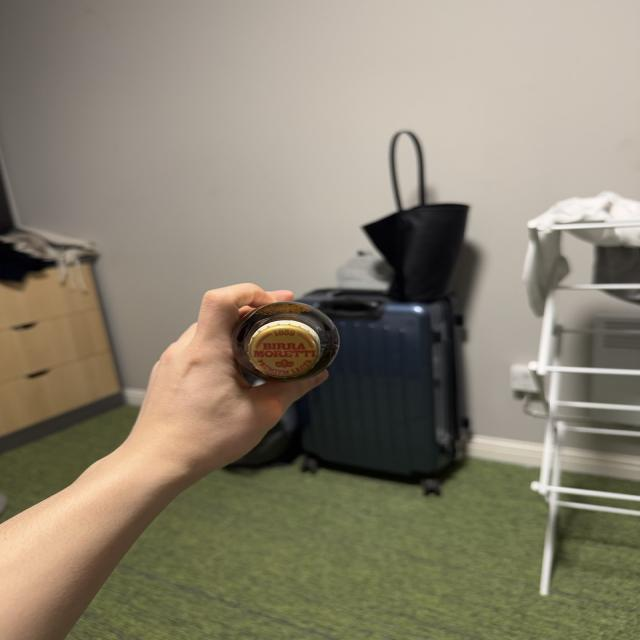beer: (227, 298, 343, 387)
